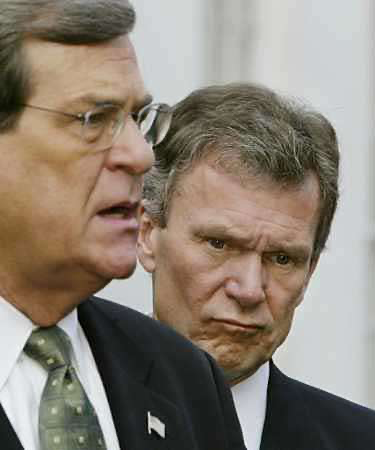Face: (157, 163, 323, 379), (30, 67, 165, 293)
